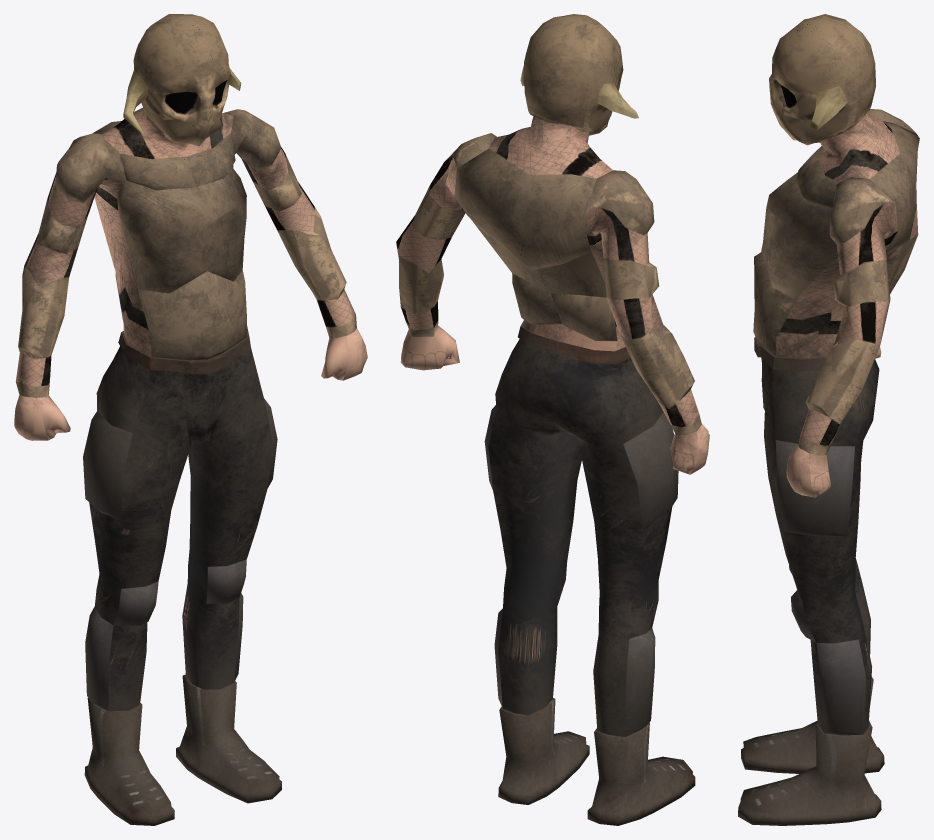
The model's file is Anim_recibirdanyo_npc1.0013.obj.
The picture shows the model from 3 angles, left to right: view 1: azimuth 30°, elevation 25°; view 2: azimuth 150°, elevation 25°; view 3: azimuth 270°, elevation 25°; orthographic projection.
Parts seen in each view (by area): view 1: NPC2; view 2: NPC2; view 3: NPC2.
Part boxes in pixels (box(x1,y1,x2,y2)): NPC2: box(14, 14, 367, 825); NPC2: box(396, 14, 709, 825); NPC2: box(738, 14, 919, 825).
Size of the model in its own units: 4.24 by 9.57 by 2.03.
